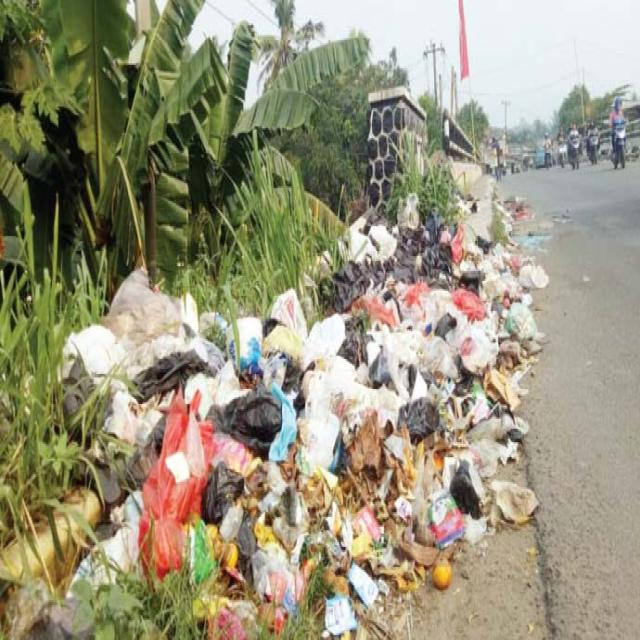trash: (48, 225, 572, 640)
